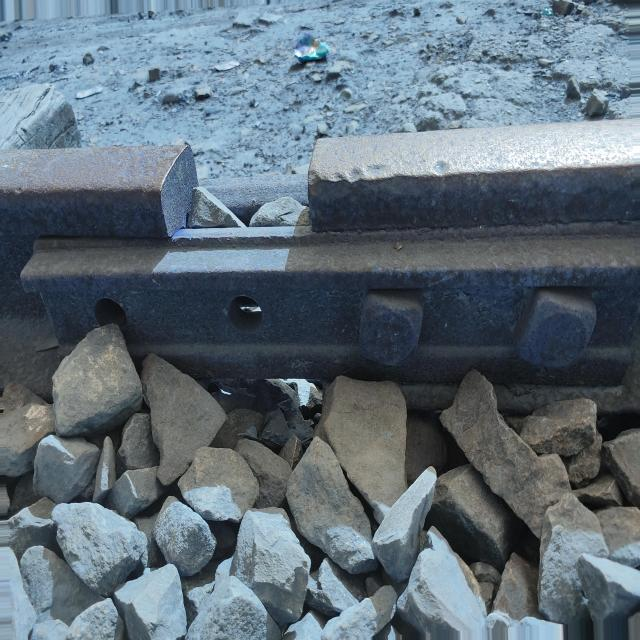crack: (144, 99, 348, 269)
